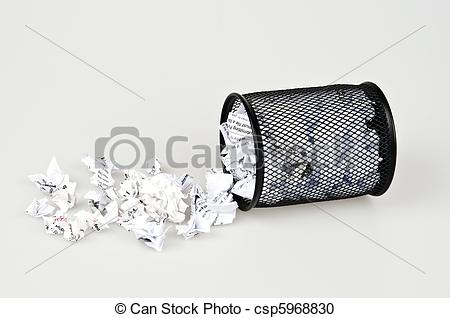paper: (130, 143, 197, 217), (177, 144, 240, 219), (170, 197, 243, 250), (110, 203, 172, 262), (14, 154, 81, 200), (37, 210, 100, 251), (73, 141, 119, 194), (80, 185, 125, 234), (12, 192, 60, 219)
